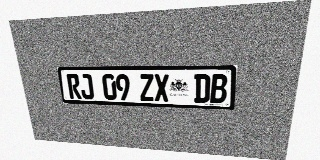0: (101, 74, 117, 100)
9: (115, 74, 131, 100)
B: (210, 74, 228, 103)
D: (194, 74, 210, 103)
J: (79, 74, 94, 99)
R: (66, 74, 82, 99)
X: (154, 74, 169, 102)
Z: (139, 74, 154, 101)
